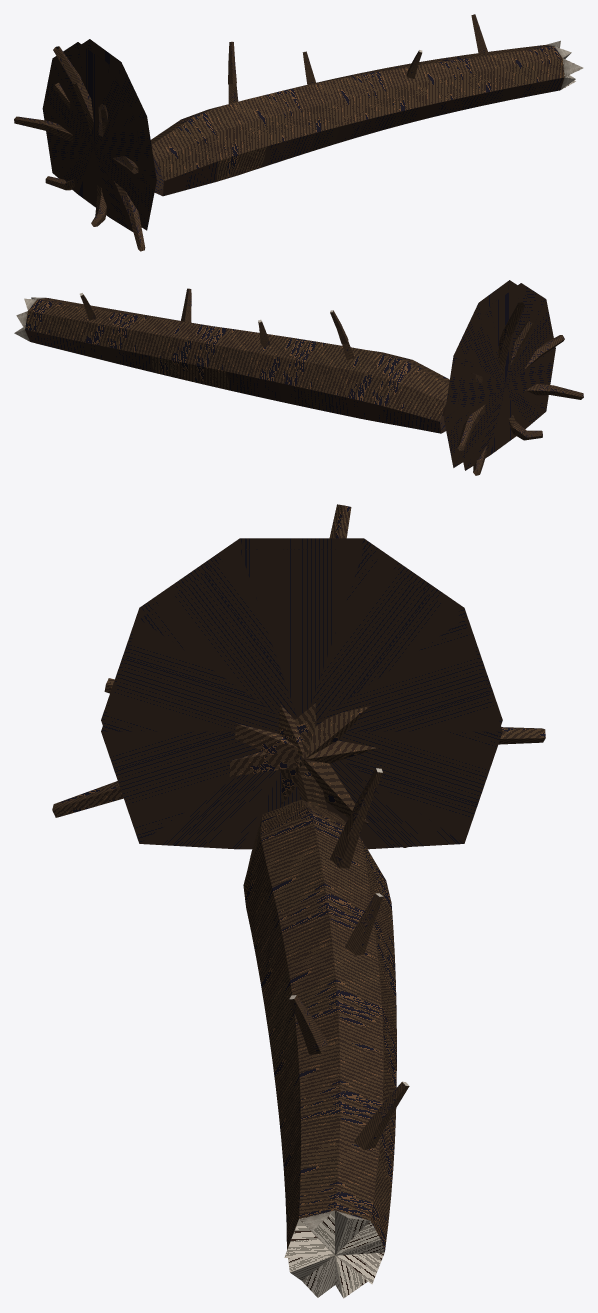
Rendered from FLO-15_Zancudo_caido.gltf.
The picture shows the model from 3 angles, top to bottom: view 1: azimuth 30°, elevation 25°; view 2: azimuth 150°, elevation 25°; view 3: azimuth 270°, elevation 25°; orthographic projection. The views are drawn at different scales.
Visible parts, largest first — view 1: FLO-15_Zancudo_caido-col; view 2: FLO-15_Zancudo_caido-col; view 3: FLO-15_Zancudo_caido-col.
Part boxes in pixels (<box>): FLO-15_Zancudo_caido-col: <box>14,14,583,251</box>; FLO-15_Zancudo_caido-col: <box>14,280,583,475</box>; FLO-15_Zancudo_caido-col: <box>52,504,545,1298</box>.
Bounding box in the file's own units: 7.87 × 2.36 × 3.33.
Materials: 1 (1 with a texture image).
